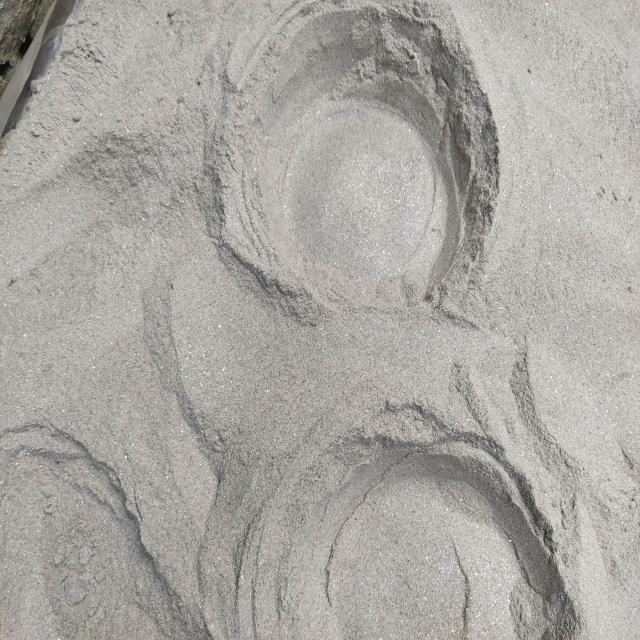C20: (205, 2, 499, 315), (294, 447, 571, 638)
